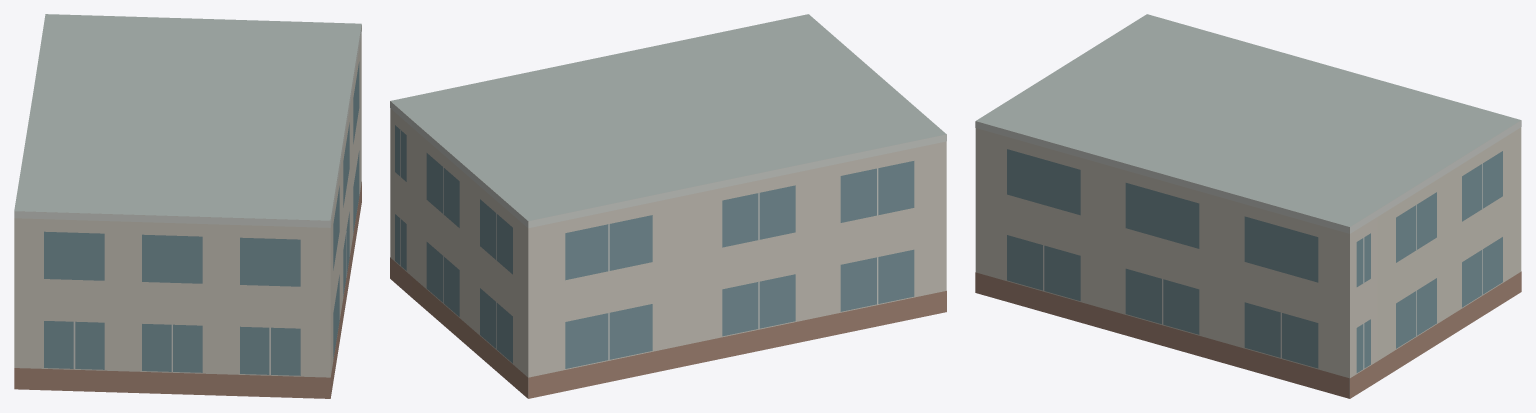
Rendered from survey-upis-32699840.glb.
3 renders of one model, left to right at view 1: azimuth 30°, elevation 25°; view 2: azimuth 150°, elevation 25°; view 3: azimuth 270°, elevation 25°, orthographic. The views are drawn at different scales.
Parts seen in each view (by area): view 1: survey-upis-32699840.tmp; view 2: survey-upis-32699840.tmp; view 3: survey-upis-32699840.tmp.
Part boxes in pixels (x1,y1,x2,y2): survey-upis-32699840.tmp: [14, 14, 361, 398]; survey-upis-32699840.tmp: [390, 14, 946, 398]; survey-upis-32699840.tmp: [975, 14, 1521, 398].
Bounding box in the file's own units: 16.24 × 6.1 × 17.58.
